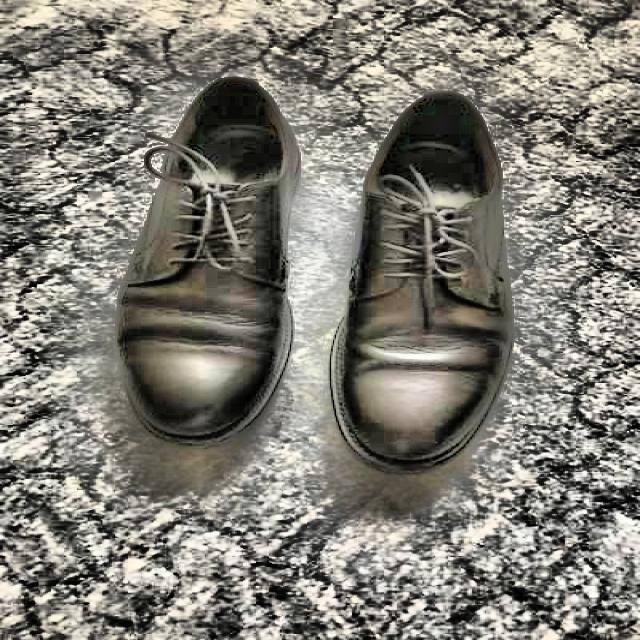shoes: (115, 72, 512, 476)
